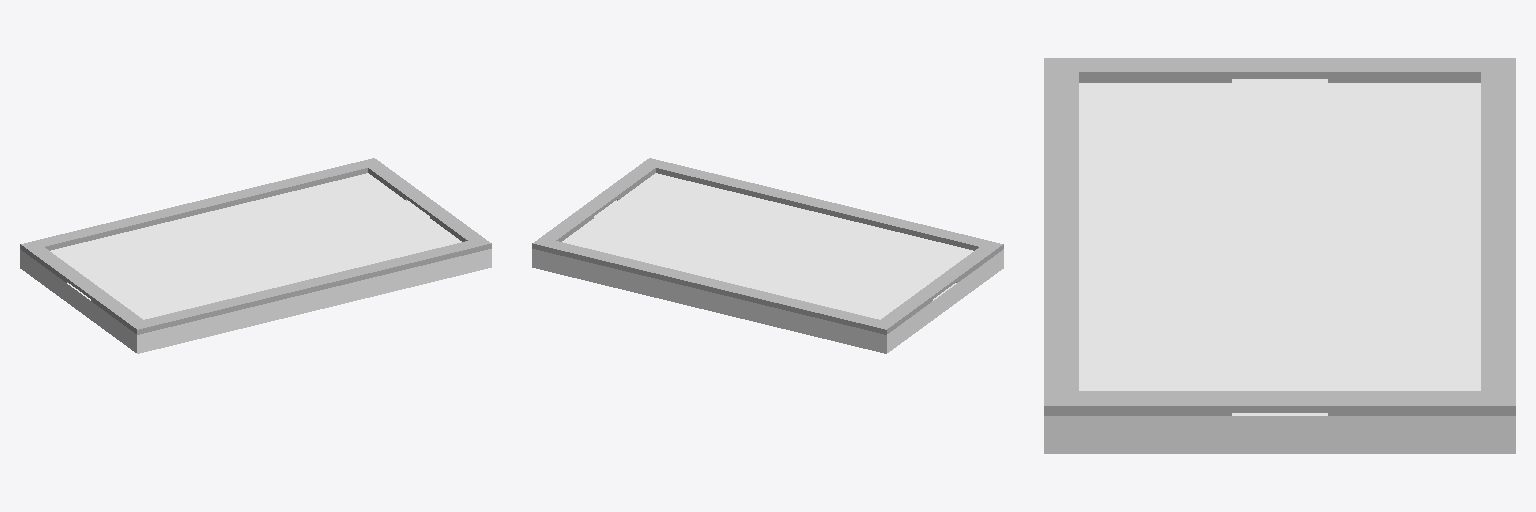
The robot description file, URDF, robot "air_hockey_table":
<?xml version="1.0" ?>
<!-- =================================================================================== -->
<!-- |    This document was autogenerated by xacro from model.urdf.xacro               | -->
<!-- |    EDITING THIS FILE BY HAND IS NOT RECOMMENDED                                 | -->
<!-- =================================================================================== -->
<robot name="air_hockey_table">
  <material name="grey">
    <color rgba="0.8 0.8 0.8 1"/>
  </material>
  <material name="white">
    <color rgba="1.0 1.0 1.0 1"/>
  </material>
  <material name="red">
    <color rgba="1.0 0.0 0.0 1"/>
  </material>
  <link name="world"/>
  <joint name="base_joint" type="fixed">
    <origin rpy="0 0 0" xyz="0.0 0.0 -0.055"/>
    <parent link="world"/>
    <child link="t_base"/>
  </joint>
  <link name="t_base">
    <inertial>
      <origin rpy="0 0 0" xyz="0 0 0.0"/>
      <mass value="1"/>
      <inertia ixx="1" ixy="0" ixz="0" iyy="1" iyz="0" izz="1"/>
    </inertial>
    <visual>
      <origin rpy="0 0 0" xyz="0 0 0.0"/>
      <geometry>
        <box size="2.136 1.222 0.11"/>
      </geometry>
      <material name="white"/>
    </visual>
    <collision>
      <origin rpy="0 0 0" xyz="0 0 0.0"/>
      <geometry>
        <box size="2.136 1.222 0.11"/>
      </geometry>
    </collision>
    <contact>
      <restitution value="0.8468189914210034"/>
      <lateral_friction value="0.0002959345937628299"/>
      <rolling_friction value="0.0"/>
      <spinning_friction value="1.0"/>
    </contact>
  </link>
  <joint name="base_home_joint" type="fixed">
    <origin rpy="0 0 0" xyz="-0.9780000000000001 0 0"/>
    <parent link="world"/>
    <child link="TableHome"/>
  </joint>
  <link name="TableHome"/>
  <joint name="base_away_joint" type="fixed">
    <origin rpy="0 0 3.141592653589793" xyz="0.9780000000000001 0 0"/>
    <parent link="world"/>
    <child link="TableAway"/>
  </joint>
  <link name="TableAway"/>
  <joint name="base_down_rim_l" type="fixed">
    <origin rpy="0.0 0.0 0.0" xyz="1.0230000000000001                                            0.323                                            0.06"/>
    <parent link="t_base"/>
    <child link="t_down_rim_l"/>
    <preserveFixedJoint>true</preserveFixedJoint>
  </joint>
  <link name="t_down_rim_l">
    <inertial>
      <mass value="1.0"/>
      <inertia ixx="1" ixy="0" ixz="0" iyy="1" iyz="0" izz="1"/>
    </inertial>
    <visual>
      <geometry>
        <box size="0.09 0.396 0.01"/>
      </geometry>
      <material name="grey"/>
    </visual>
    <collision>
      <origin xyz="0.0 0.0 0.0"/>
      <geometry>
        <box size="0.09 0.396 0.11"/>
      </geometry>
    </collision>
    <contact>
      <restitution value="0.9697840083850648"/>
      <lateral_friction value="0.12931021481683416"/>
      <rolling_friction value="0.0"/>
      <spinning_friction value="1.0"/>
    </contact>
  </link>
  <joint name="base_down_rim_r" type="fixed">
    <origin rpy="0.0 0.0 0.0" xyz="1.0230000000000001                                            -0.323                                            0.06"/>
    <parent link="t_base"/>
    <child link="t_down_rim_r"/>
    <preserveFixedJoint>true</preserveFixedJoint>
  </joint>
  <link name="t_down_rim_r">
    <inertial>
      <mass value="1.0"/>
      <inertia ixx="1" ixy="0" ixz="0" iyy="1" iyz="0" izz="1"/>
    </inertial>
    <visual>
      <geometry>
        <box size="0.09 0.396 0.01"/>
      </geometry>
      <material name="grey"/>
    </visual>
    <collision>
      <origin xyz="0.0 0.0 0.0"/>
      <geometry>
        <box size="0.09 0.396 0.11"/>
      </geometry>
    </collision>
    <contact>
      <restitution value="0.9697840083850648"/>
      <lateral_friction value="0.12931021481683416"/>
      <rolling_friction value="0.0"/>
      <spinning_friction value="1.0"/>
    </contact>
  </link>
  <joint name="base_down_rim_top" type="fixed">
    <origin rpy="0.0 0.0 0.0" xyz="1.0230000000000001                                            0.0                                            0.075"/>
    <parent link="t_base"/>
    <child link="t_down_rim_top"/>
    <preserveFixedJoint>true</preserveFixedJoint>
  </joint>
  <link name="t_down_rim_top">
    <inertial>
      <mass value="1.0"/>
      <inertia ixx="1" ixy="0" ixz="0" iyy="1" iyz="0" izz="1"/>
    </inertial>
    <visual>
      <geometry>
        <box size="0.09 1.042 0.02"/>
      </geometry>
      <material name="grey"/>
    </visual>
    <!--            <collision>-->
    <!--                <geometry>-->
    <!--                    <box size="${table_rim_horizon_length} ${table_base_width - 2 * table_rim_vertical_width} ${table_rim_horizon_top_height}"/>-->
    <!--                </geometry>-->
    <!--            </collision>-->
    <contact>
      <restitution value="0.9697840083850648"/>
      <lateral_friction value="0.12931021481683416"/>
      <rolling_friction value="0.0"/>
      <spinning_friction value="1.0"/>
    </contact>
  </link>
  <joint name="base_up_rim_l" type="fixed">
    <origin rpy="0.0 0.0 0.0" xyz="-1.0230000000000001                                            0.323                                            0.06"/>
    <parent link="t_base"/>
    <child link="t_up_rim_l"/>
    <preserveFixedJoint>true</preserveFixedJoint>
  </joint>
  <link name="t_up_rim_l">
    <inertial>
      <mass value="1.0"/>
      <inertia ixx="1" ixy="0" ixz="0" iyy="1" iyz="0" izz="1"/>
    </inertial>
    <visual>
      <geometry>
        <box size="0.09 0.396 0.01"/>
      </geometry>
      <material name="grey"/>
    </visual>
    <collision>
      <origin xyz="0.0 0.0 0.0"/>
      <geometry>
        <box size="0.09 0.396 0.11"/>
      </geometry>
    </collision>
    <contact>
      <restitution value="0.9697840083850648"/>
      <lateral_friction value="0.12931021481683416"/>
      <rolling_friction value="0.0"/>
      <spinning_friction value="1.0"/>
    </contact>
  </link>
  <joint name="base_up_rim_r" type="fixed">
    <origin rpy="0.0 0.0 0.0" xyz="-1.0230000000000001                                            -0.323                                            0.06"/>
    <parent link="t_base"/>
    <child link="t_up_rim_r"/>
    <preserveFixedJoint>true</preserveFixedJoint>
  </joint>
  <link name="t_up_rim_r">
    <inertial>
      <mass value="1.0"/>
      <inertia ixx="1" ixy="0" ixz="0" iyy="1" iyz="0" izz="1"/>
    </inertial>
    <visual>
      <geometry>
        <box size="0.09 0.396 0.01"/>
      </geometry>
      <material name="grey"/>
    </visual>
    <collision>
      <origin xyz="0.0 0.0 0.0"/>
      <geometry>
        <box size="0.09 0.396 0.11"/>
      </geometry>
    </collision>
    <contact>
      <restitution value="0.9697840083850648"/>
      <lateral_friction value="0.12931021481683416"/>
      <rolling_friction value="0.0"/>
      <spinning_friction value="1.0"/>
    </contact>
  </link>
  <joint name="base_up_rim_top" type="fixed">
    <origin rpy="0.0 0.0 0.0" xyz="-1.0230000000000001                                            0.0                                            0.075"/>
    <parent link="t_base"/>
    <child link="t_up_rim_top"/>
    <preserveFixedJoint>true</preserveFixedJoint>
  </joint>
  <link name="t_up_rim_top">
    <inertial>
      <mass value="1.0"/>
      <inertia ixx="1" ixy="0" ixz="0" iyy="1" iyz="0" izz="1"/>
    </inertial>
    <visual>
      <geometry>
        <box size="0.09 1.042 0.02"/>
      </geometry>
      <material name="grey"/>
    </visual>
    <contact>
      <restitution value="0.9697840083850648"/>
      <lateral_friction value="0.12931021481683416"/>
      <rolling_friction value="0.0"/>
      <spinning_friction value="1.0"/>
    </contact>
  </link>
  <joint name="base_left_rim" type="fixed">
    <origin rpy="0.0 0.0 0.0" xyz="0.0                                            0.566                                            0.07"/>
    <parent link="t_base"/>
    <child link="t_left_rim"/>
    <preserveFixedJoint>true</preserveFixedJoint>
  </joint>
  <link name="t_left_rim">
    <inertial>
      <mass value="1.0"/>
      <inertia ixx="1" ixy="0" ixz="0" iyy="1" iyz="0" izz="1"/>
    </inertial>
    <visual>
      <geometry>
        <box size="2.136 0.09 0.03"/>
      </geometry>
      <material name="grey"/>
    </visual>
    <collision>
      <origin xyz="0.0 0.0 0.0"/>
      <geometry>
        <box size="2.136 0.09 0.13"/>
      </geometry>
    </collision>
    <contact>
      <restitution value="0.8468189914210034"/>
      <lateral_friction value="0.12931021481683416"/>
      <rolling_friction value="0.0"/>
      <spinning_friction value="1.0"/>
    </contact>
  </link>
  <joint name="base_right_rim" type="fixed">
    <origin rpy="0.0 0.0 0.0" xyz="0.0                                            -0.566                                            0.07"/>
    <parent link="t_base"/>
    <child link="t_right_rim"/>
    <preserveFixedJoint>true</preserveFixedJoint>
  </joint>
  <link name="t_right_rim">
    <inertial>
      <mass value="1.0"/>
      <inertia ixx="1" ixy="0" ixz="0" iyy="1" iyz="0" izz="1"/>
    </inertial>
    <visual>
      <geometry>
        <box size="2.136 0.09 0.03"/>
      </geometry>
      <material name="grey"/>
    </visual>
    <collision>
      <origin xyz="0.0 0.0 0.0"/>
      <geometry>
        <box size="2.136 0.09 0.13"/>
      </geometry>
    </collision>
    <contact>
      <restitution value="0.8468189914210034"/>
      <lateral_friction value="0.12931021481683416"/>
      <rolling_friction value="0.0"/>
      <spinning_friction value="1.0"/>
    </contact>
  </link>
  <static>1</static>
</robot>

--- Render facts (derived) ---
3 views of the same robot in one strip: view 1: azimuth 30°, elevation 25°; view 2: azimuth 150°, elevation 25°; view 3: azimuth 270°, elevation 25° (orthographic).
Model air_hockey_table with 12 links and 11 joints (11 fixed), rooted at world, posed all joints at 0.
Links seen in each view (by area): view 1: t_base, t_right_rim, t_left_rim, t_up_rim_top, t_down_rim_top; view 2: t_base, t_left_rim, t_right_rim, t_up_rim_top, t_down_rim_top; view 3: t_base, t_left_rim, t_right_rim, t_down_rim_top, t_up_rim_top, t_up_rim_l, t_up_rim_r.
Boxes of the visible links, x1=… form: t_base: x1=20, y1=173, x2=491, y2=353; t_right_rim: x1=129, y1=237, x2=491, y2=334; t_left_rim: x1=20, y1=158, x2=381, y2=254; t_up_rim_top: x1=29, y1=247, x2=142, y2=326; t_down_rim_top: x1=368, y1=164, x2=481, y2=241; t_base: x1=532, y1=173, x2=1003, y2=353; t_left_rim: x1=532, y1=237, x2=894, y2=334; t_right_rim: x1=642, y1=158, x2=1003, y2=254; t_up_rim_top: x1=881, y1=247, x2=994, y2=326; t_down_rim_top: x1=542, y1=164, x2=655, y2=241; t_base: x1=1044, y1=79, x2=1515, y2=453; t_left_rim: x1=1481, y1=58, x2=1515, y2=415; t_right_rim: x1=1044, y1=58, x2=1078, y2=415; t_down_rim_top: x1=1079, y1=391, x2=1480, y2=412; t_up_rim_top: x1=1079, y1=58, x2=1480, y2=78; t_up_rim_l: x1=1328, y1=79, x2=1480, y2=82; t_up_rim_r: x1=1079, y1=79, x2=1231, y2=82.
Size in the robot's own frame: 2.14 by 1.22 by 0.14 metres.
Geometry: primitives only (box / cylinder / sphere), no mesh files.
